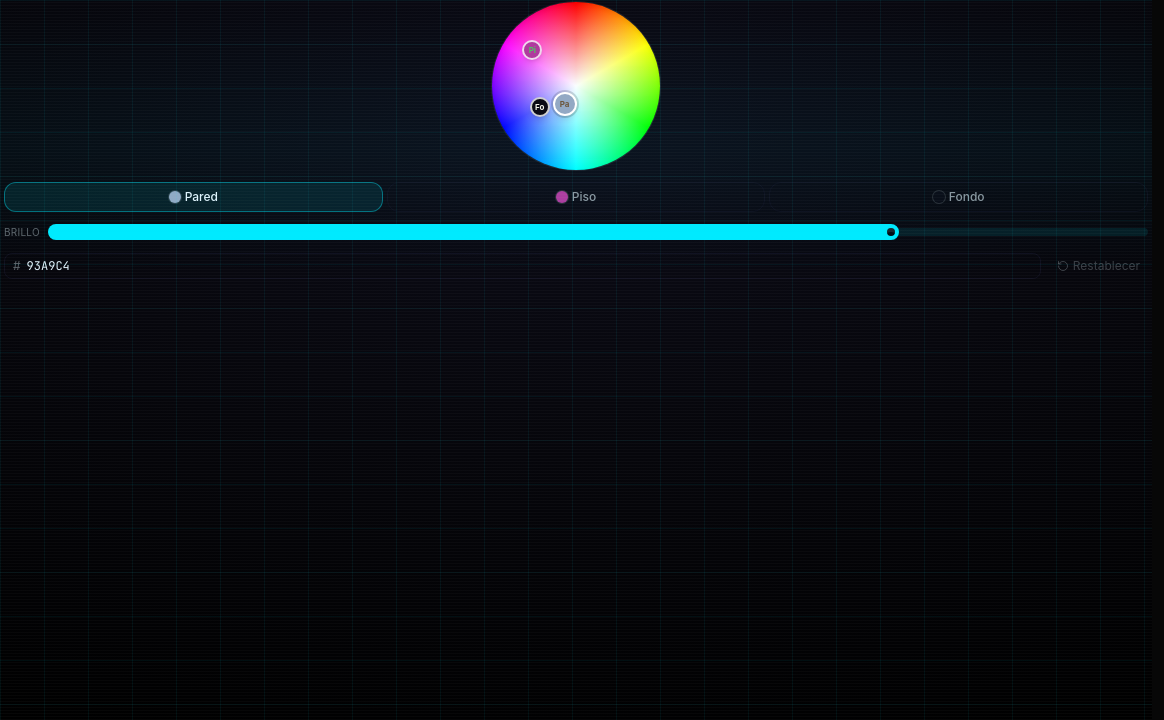
Test case: ModelColorWheel — arrastre › bajar el brillo a 0 no borra el matiz elegido
Step 1. Click the button "Piso" → (576, 197), box x1=387 y1=182 x2=765 y2=212
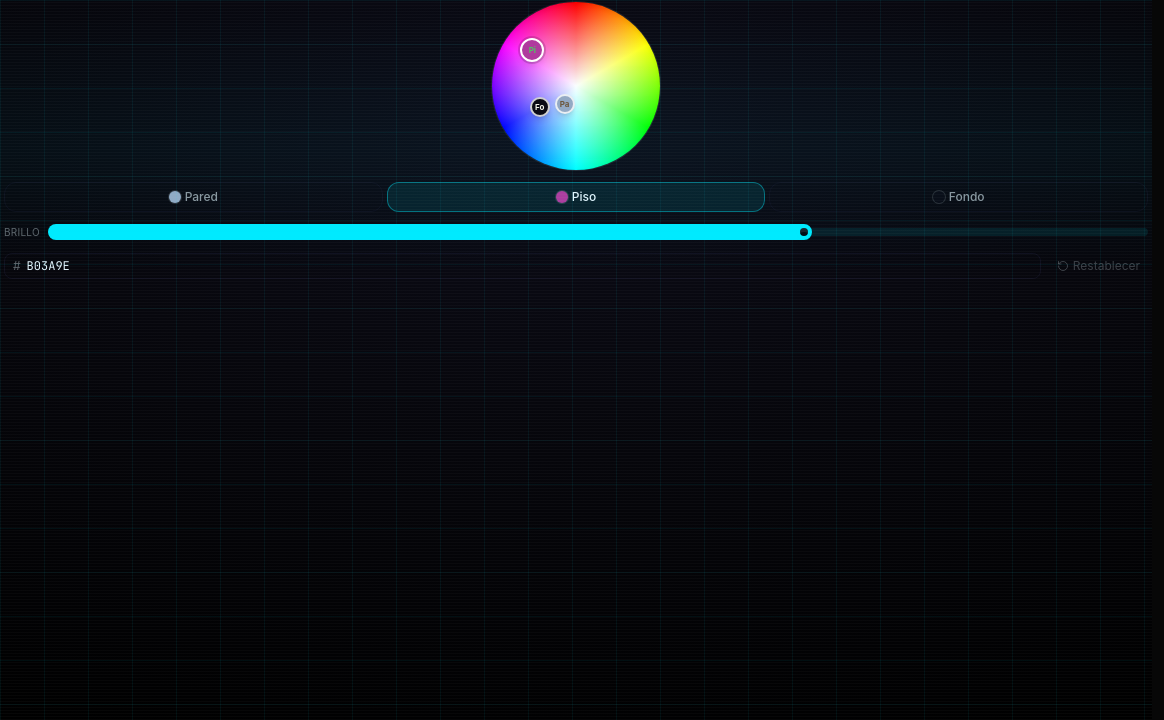
Step 2. Press the mouse on the element showing "Pa Pi Fo" → (576, 86), box x1=492 y1=2 x2=660 y2=170
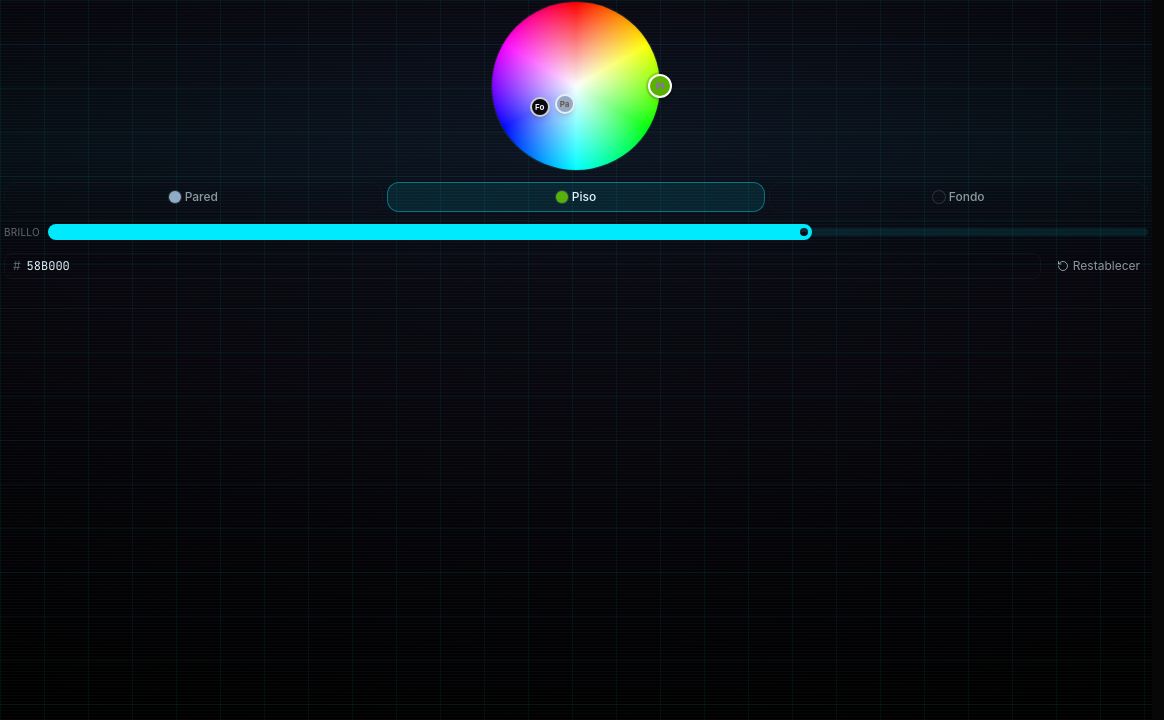
Step 3. Set the slider named "Brillo de piso" to "0" → (56, 232), box x1=48 y1=224 x2=1148 y2=240
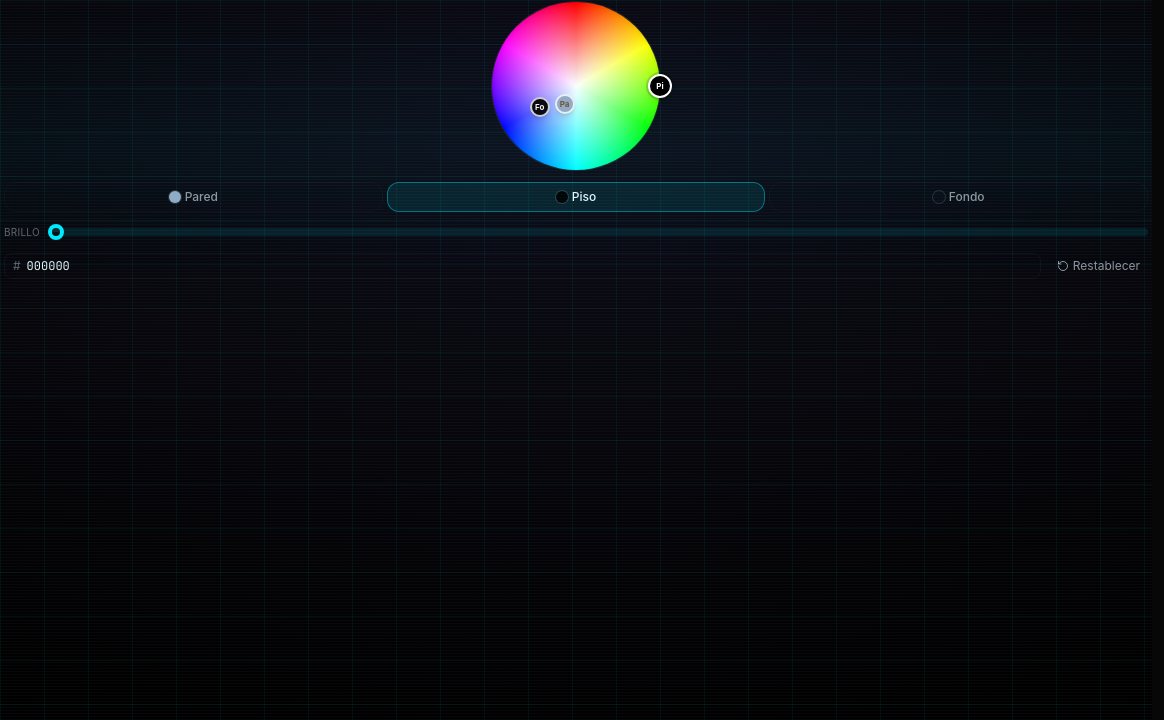
Step 4. Set the slider named "Brillo de piso" to "100" → (1140, 232), box x1=48 y1=224 x2=1148 y2=240
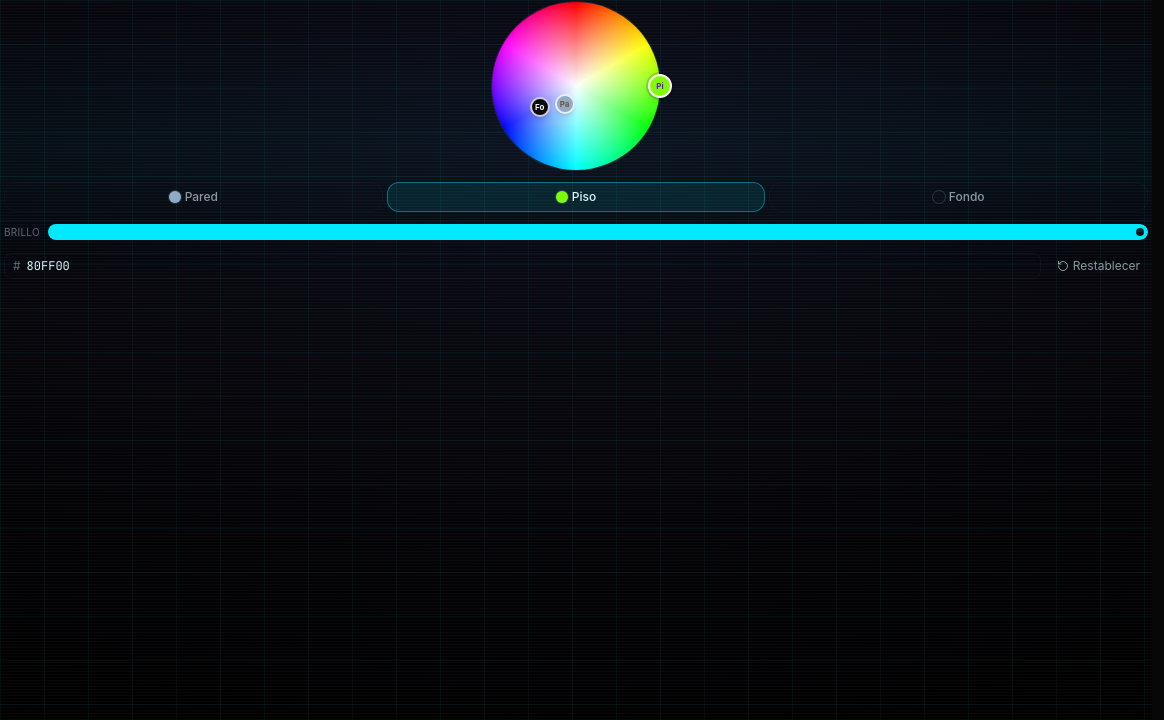
Expected: the field named "Código hex de piso" holds "80ff00", x1=27 y1=258 x2=1032 y2=274
